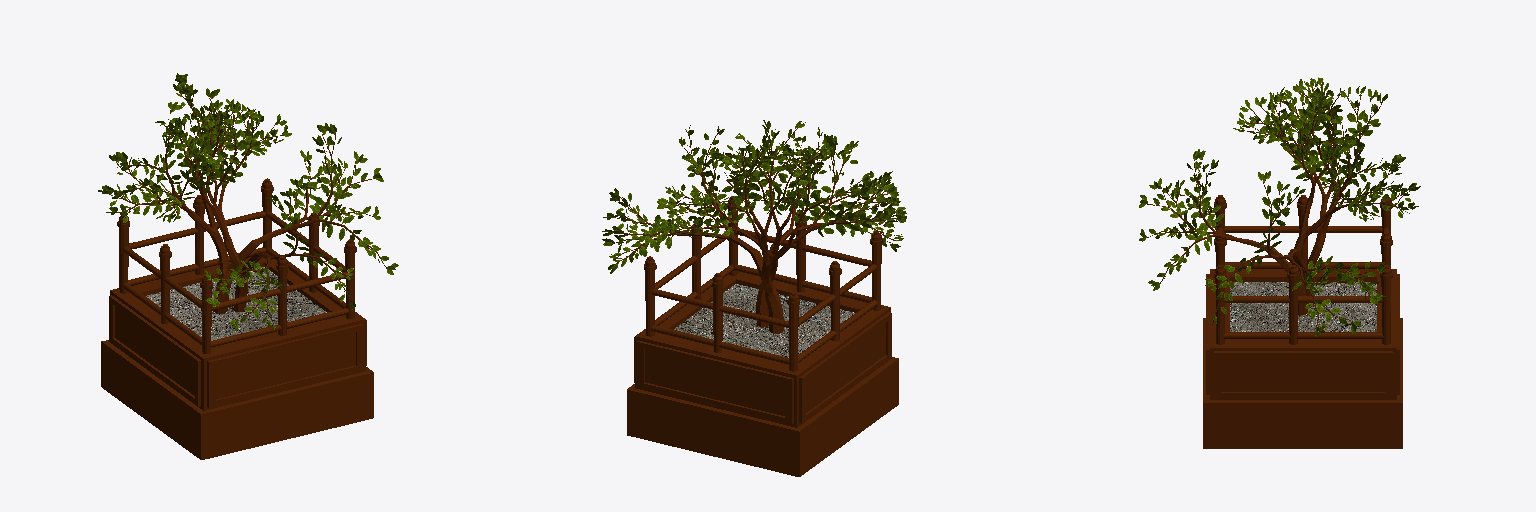
3 renders of one model, left to right at view 1: azimuth 30°, elevation 25°; view 2: azimuth 150°, elevation 25°; view 3: azimuth 270°, elevation 25°, orthographic.
Visible parts, largest first — view 1: street_plant.001; view 2: street_plant.001; view 3: street_plant.001.
Part boxes in pixels (x1,y1,x2,y2): street_plant.001: (98,73,398,459); street_plant.001: (602,120,906,476); street_plant.001: (1139,77,1420,448).
Bounding box in the file's own units: 1.42 × 1.47 × 1.21.
Materials: 5 (2 with a texture image).